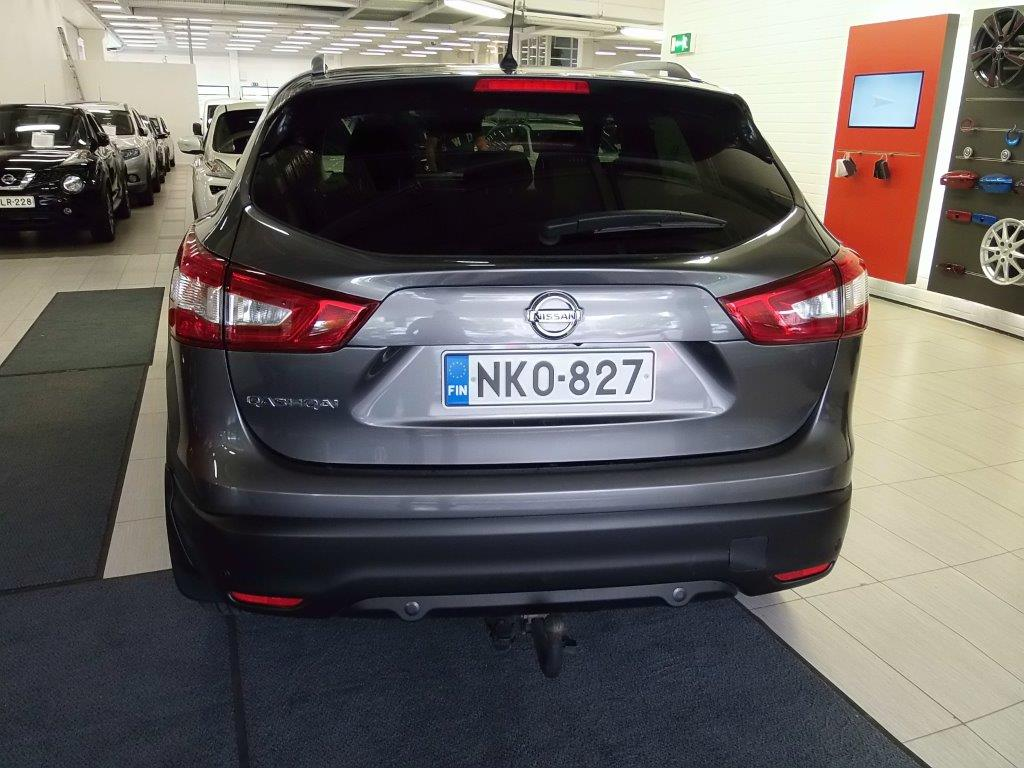license: (437, 346, 652, 408)
